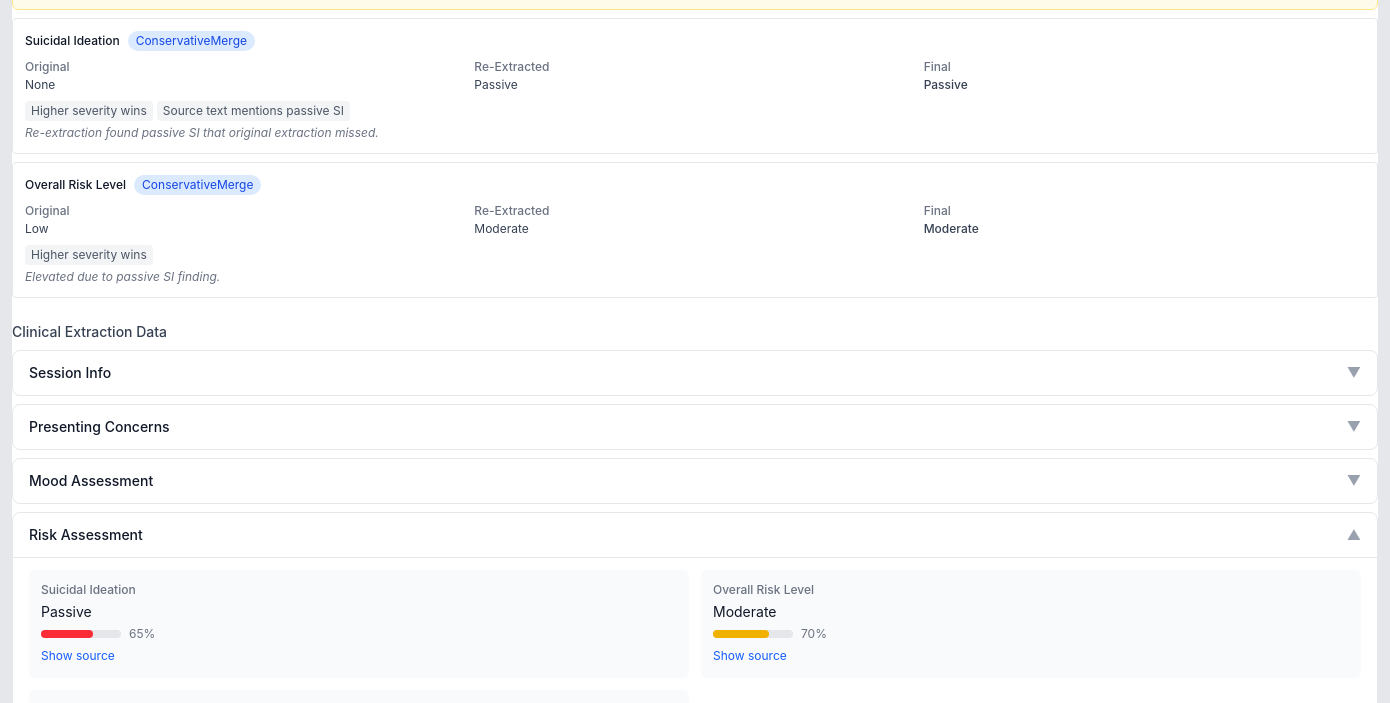
Test: SessionDetail › other accordion sections start closed, open on click
(page scrolled)
Expected: the text "2025-01-15" is not shown
Click to open
Step 1. Click the text "Session Info" → (70, 373), box [29,363,111,383]
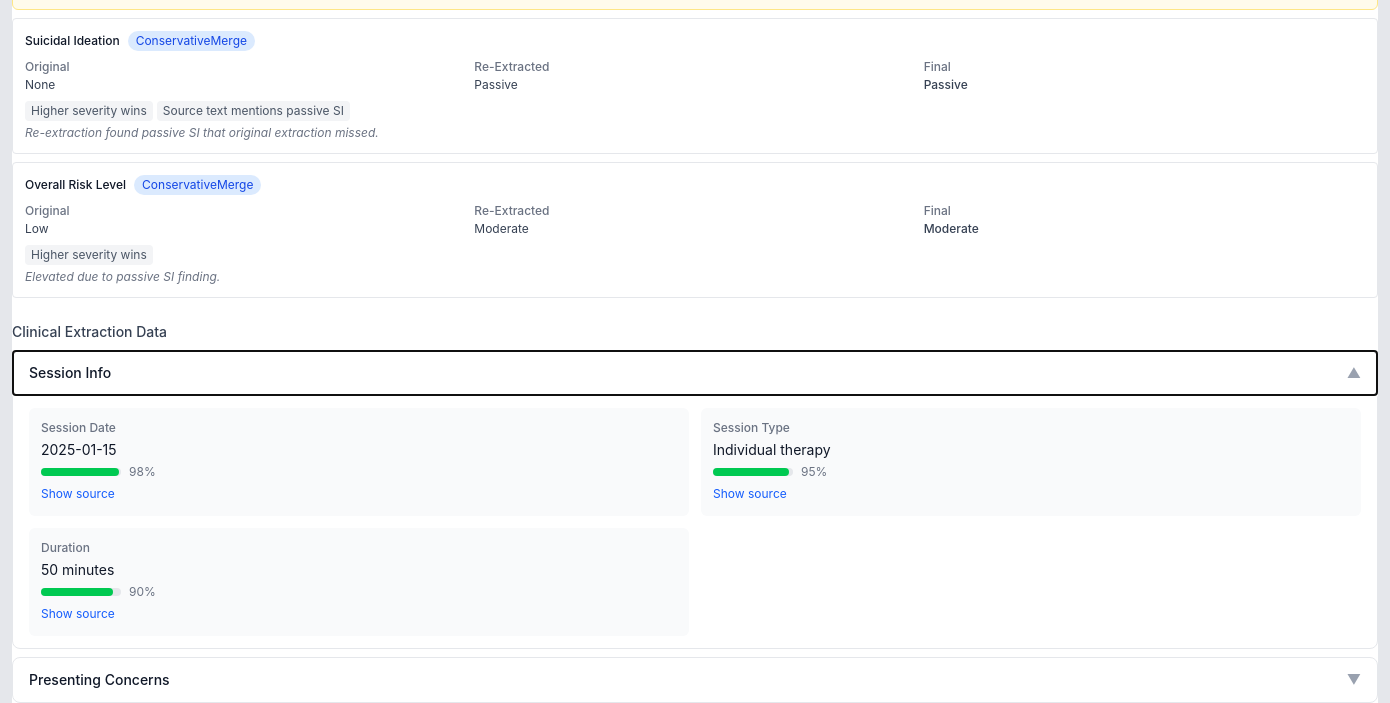
Result: the text "2025-01-15" is shown at [41,441,117,458]
